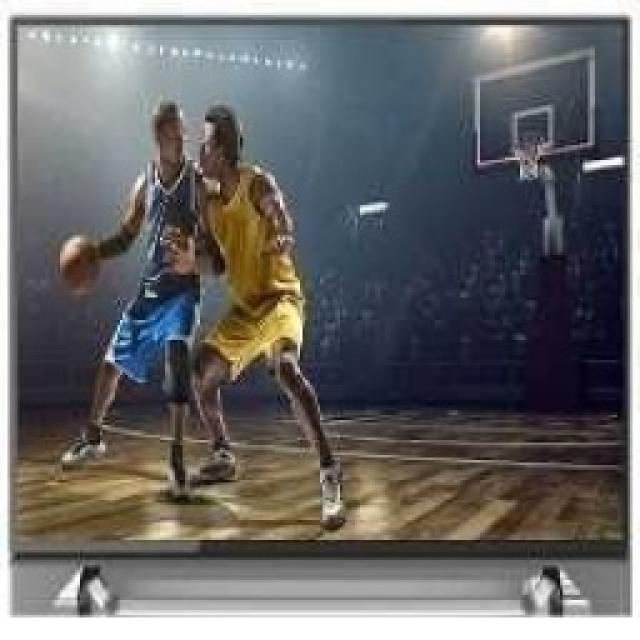rim: (50, 222, 109, 302)
